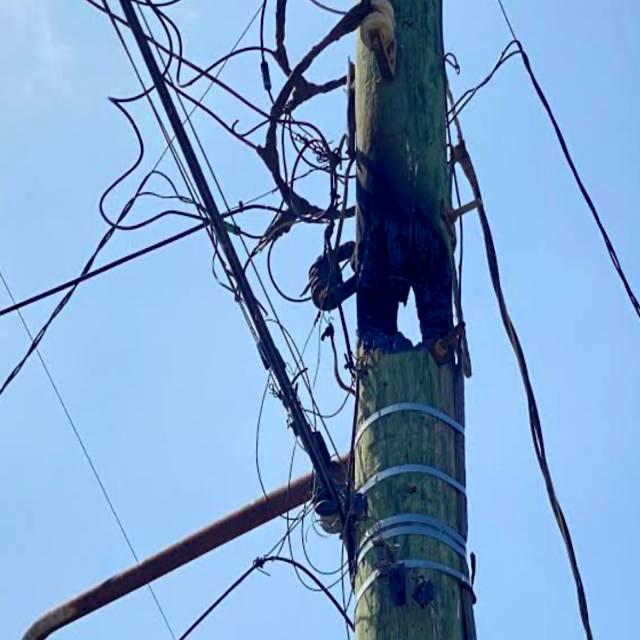Broken Pole: (298, 0, 484, 640)
